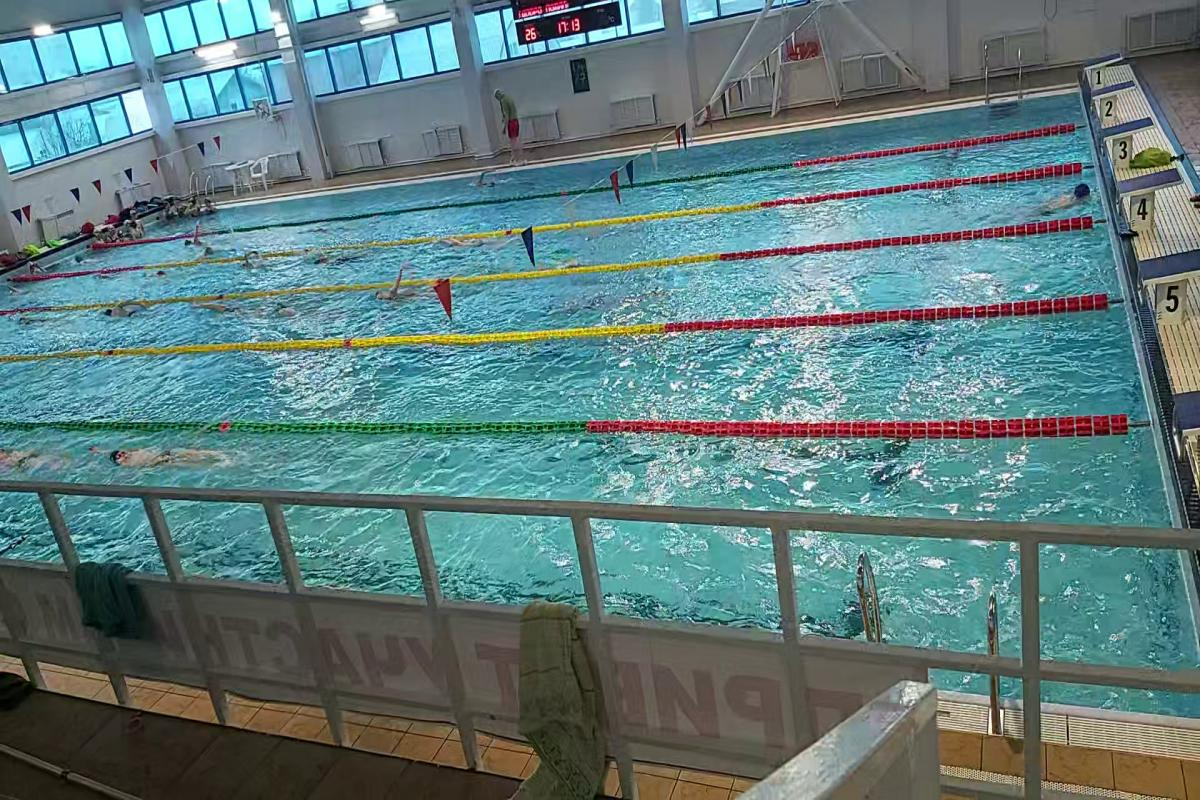swimmer: (86, 439, 244, 482), (1013, 182, 1091, 213), (372, 264, 423, 306), (1, 439, 53, 476), (107, 298, 147, 322), (237, 249, 266, 272)
